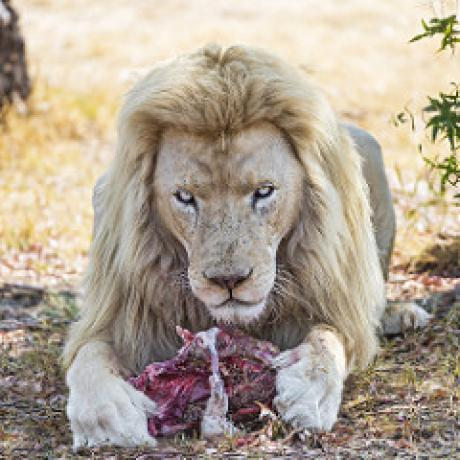Lion: (60, 38, 414, 456)
